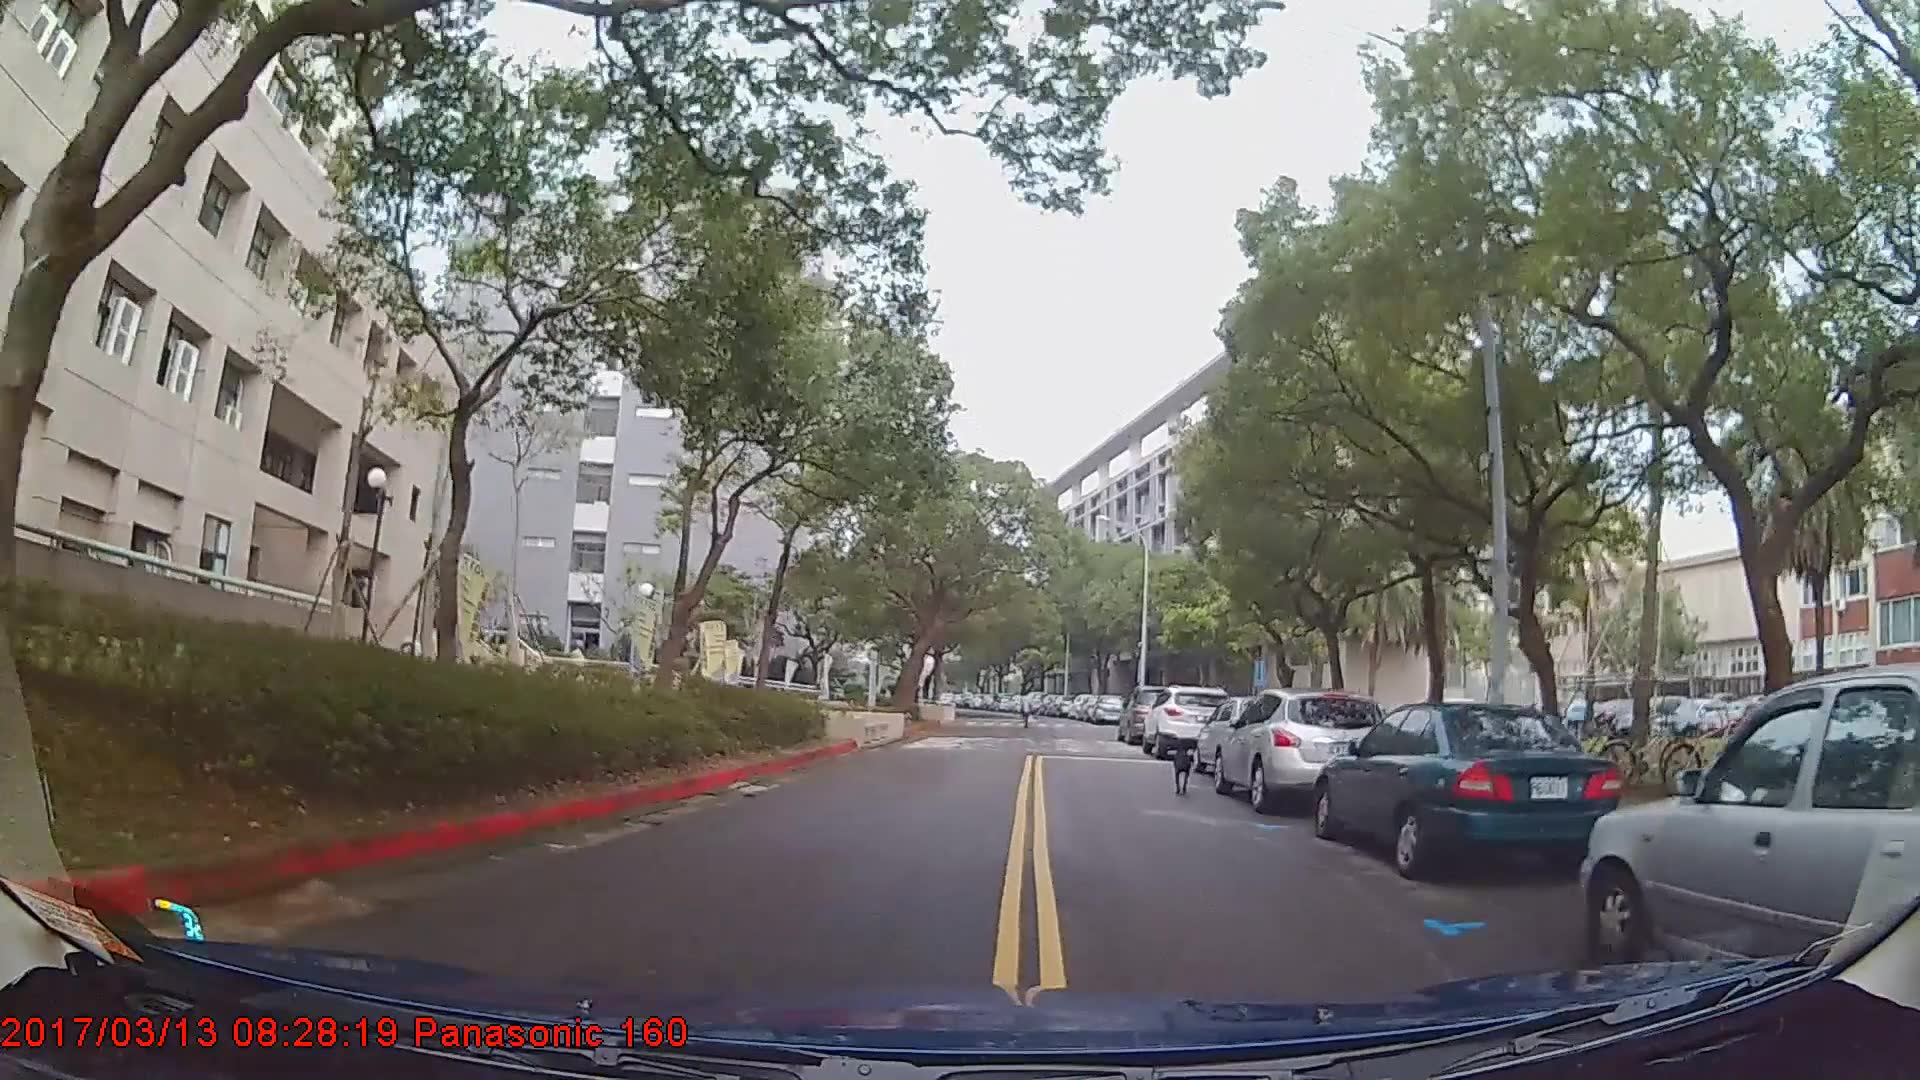pedestrian: (1016, 689, 1036, 729)
vehicle: (1578, 660, 1920, 992), (1312, 703, 1627, 882), (1210, 689, 1391, 819), (1142, 686, 1232, 758), (1116, 683, 1184, 744), (1088, 690, 1126, 723)
